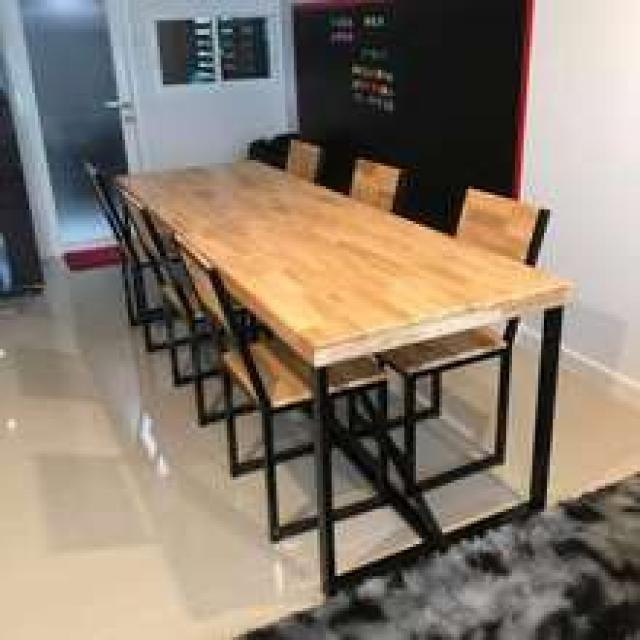table: (102, 132, 582, 408)
